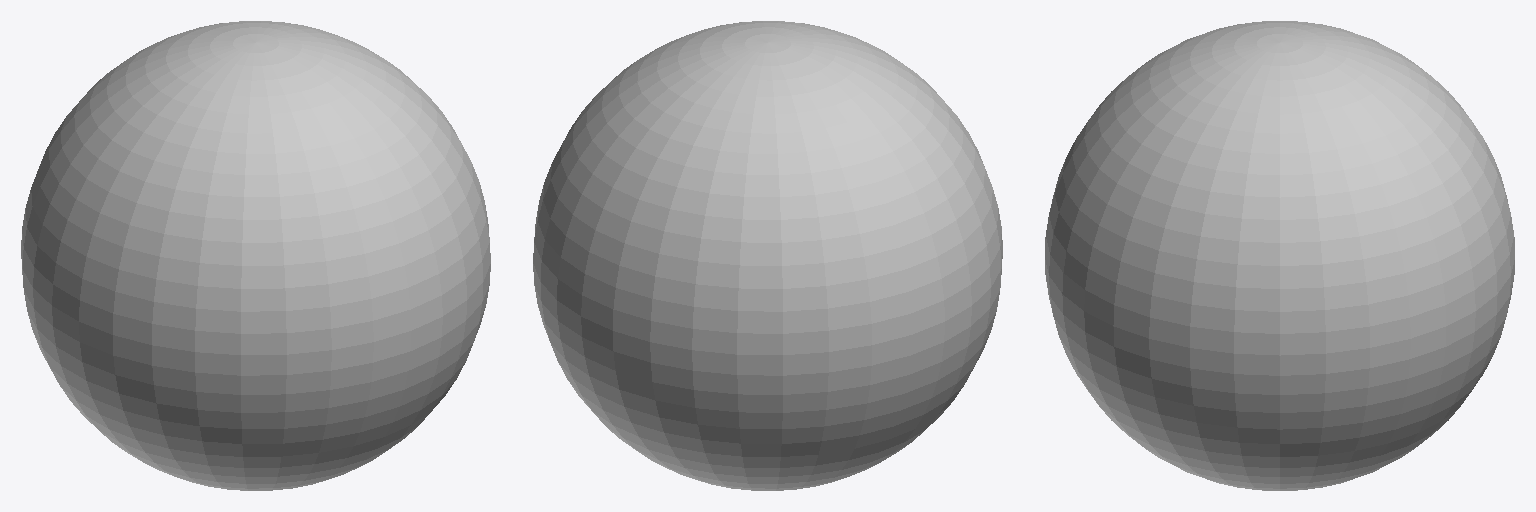
Rendered from Skydome.obj.
3 renders of one model, left to right at view 1: azimuth 30°, elevation 25°; view 2: azimuth 150°, elevation 25°; view 3: azimuth 270°, elevation 25°, orthographic.
Parts seen in each view (by area): view 1: 球; view 2: 球; view 3: 球.
Part boxes in pixels (left/top/right/bottom): 球: left=21, top=21, right=490, bottom=490; 球: left=533, top=21, right=1002, bottom=490; 球: left=1045, top=21, right=1514, bottom=490.
Bounding box in the file's own units: 139 × 139 × 139.